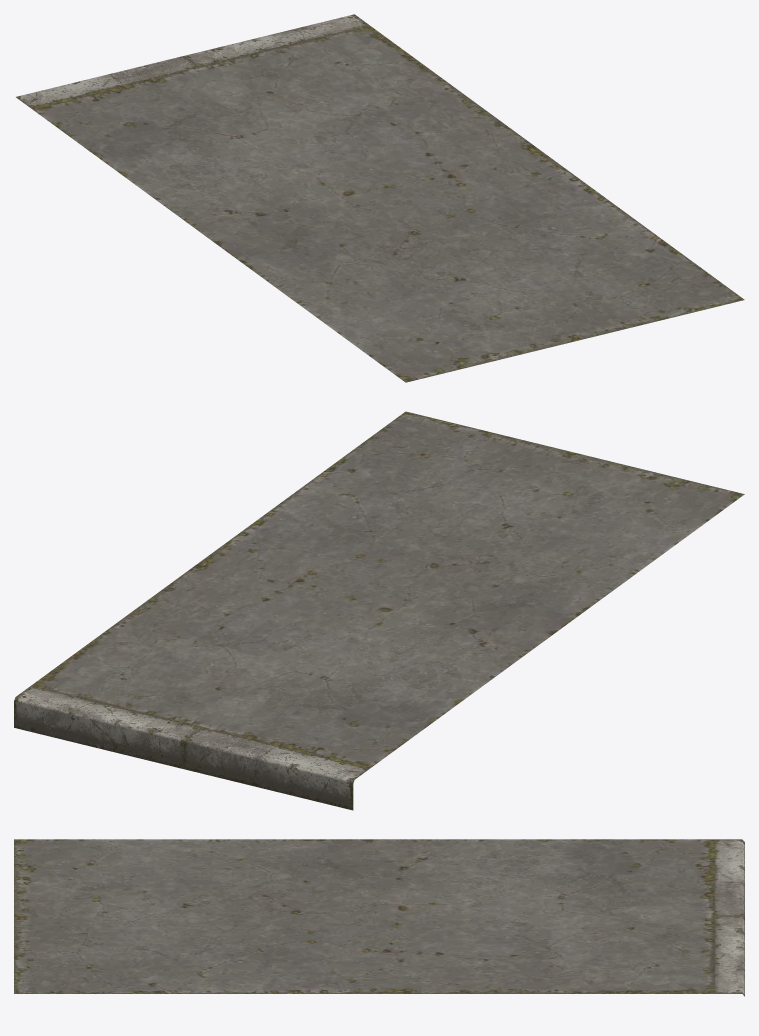
Rendered from pavement_6x3.glb.
The picture shows the model from 3 angles, top to bottom: view 1: azimuth 30°, elevation 25°; view 2: azimuth 150°, elevation 25°; view 3: azimuth 270°, elevation 25°; orthographic projection. The views are drawn at different scales.
Parts seen in each view (by area): view 1: pavement_6x3; view 2: pavement_6x3; view 3: pavement_6x3.
Boxes of the visible parts, x1,y1,x2,y2 form: pavement_6x3: (16,14,744,382); pavement_6x3: (14,411,744,810); pavement_6x3: (14,839,744,996).
Size of the model in its own units: 3 by 0.2501 by 6.
1 material, 1 textured.
